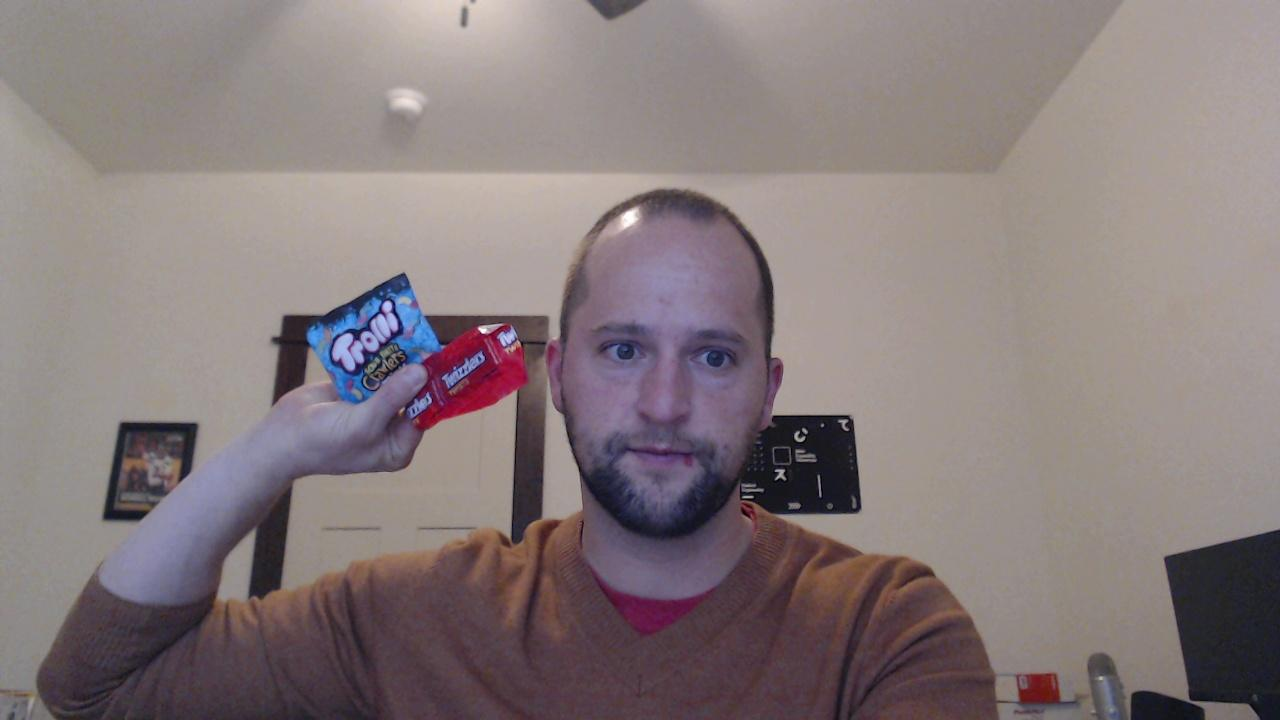Trolli: (305, 275, 441, 405)
starburst: (400, 323, 530, 431)
